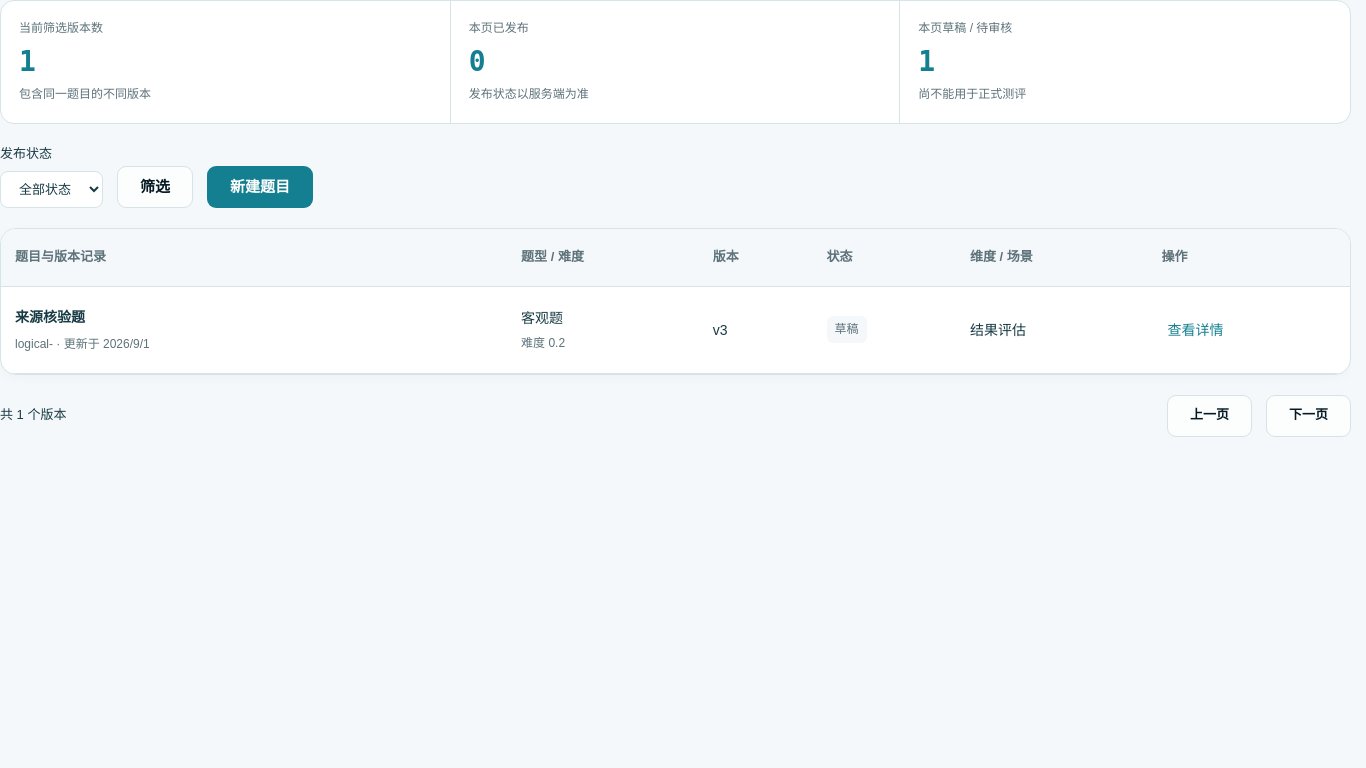
Test: content version library › keeps administrator editing without exposing a teacher assignment workflow on one platform
The width and height of the screenshot is (1366, 768).
What coordinates should you click on to do the following:
click the button "查看详情"
I would click on:
 (1196, 330)
Its box is 1162,318 -> 1230,342.
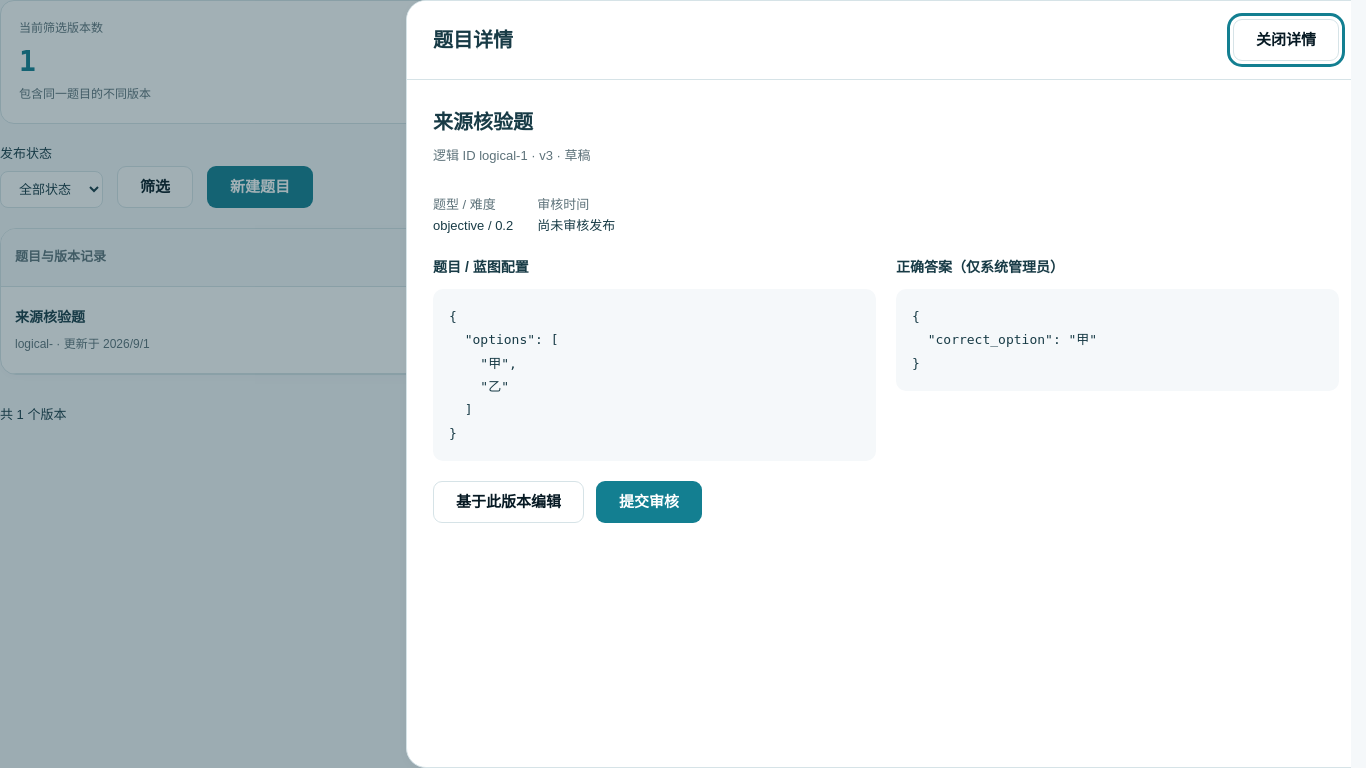
expect the text "提交审核" is shown: met, box 596,481 -> 702,523
